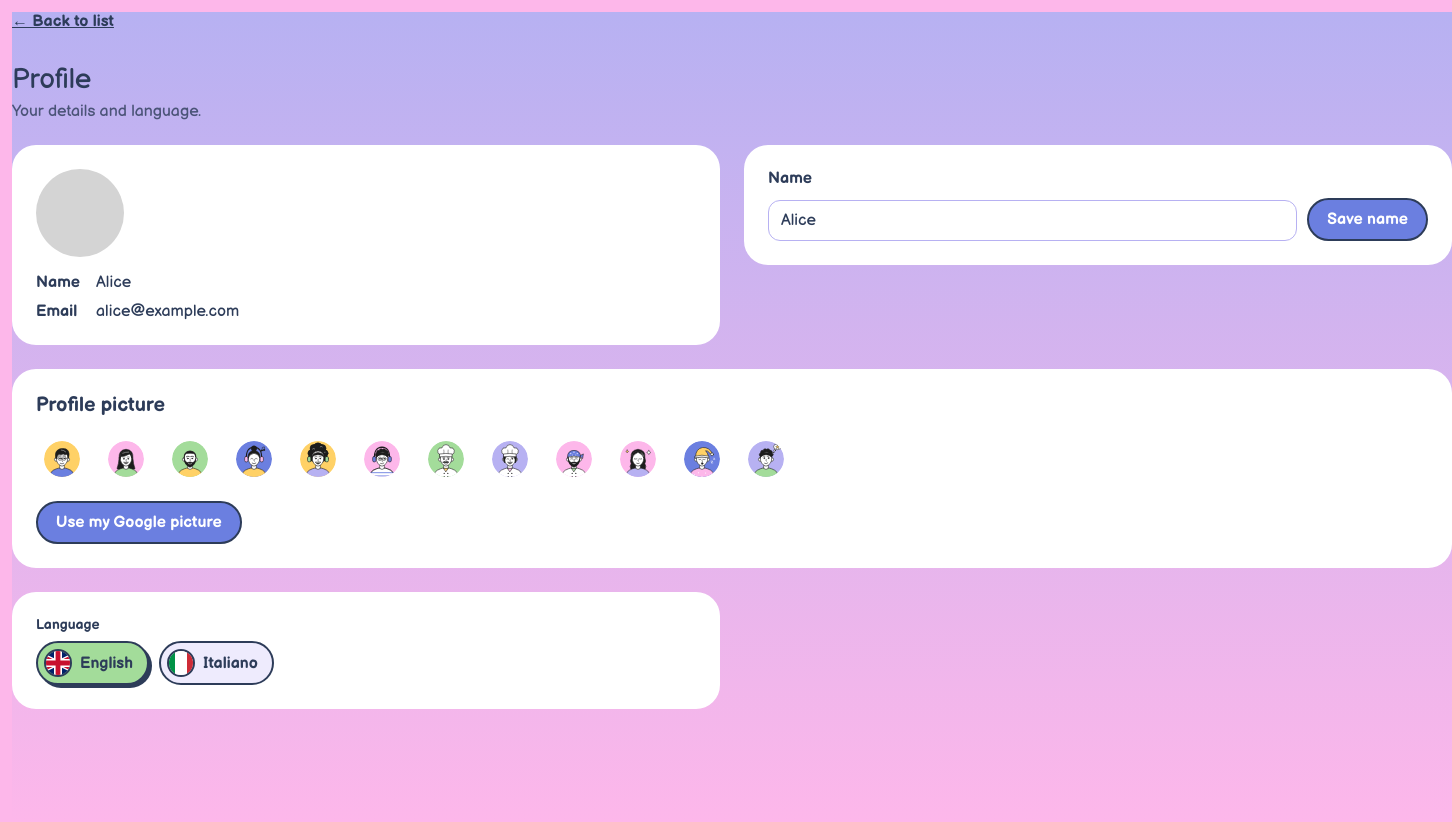
Test: ProfileScreen › saves a new name to the account and to the household
This screenshot has width=1452, height=822.
Replace the text in the field labelled "Name" with "Bob": point(1033, 220) [768,200,1297,241]
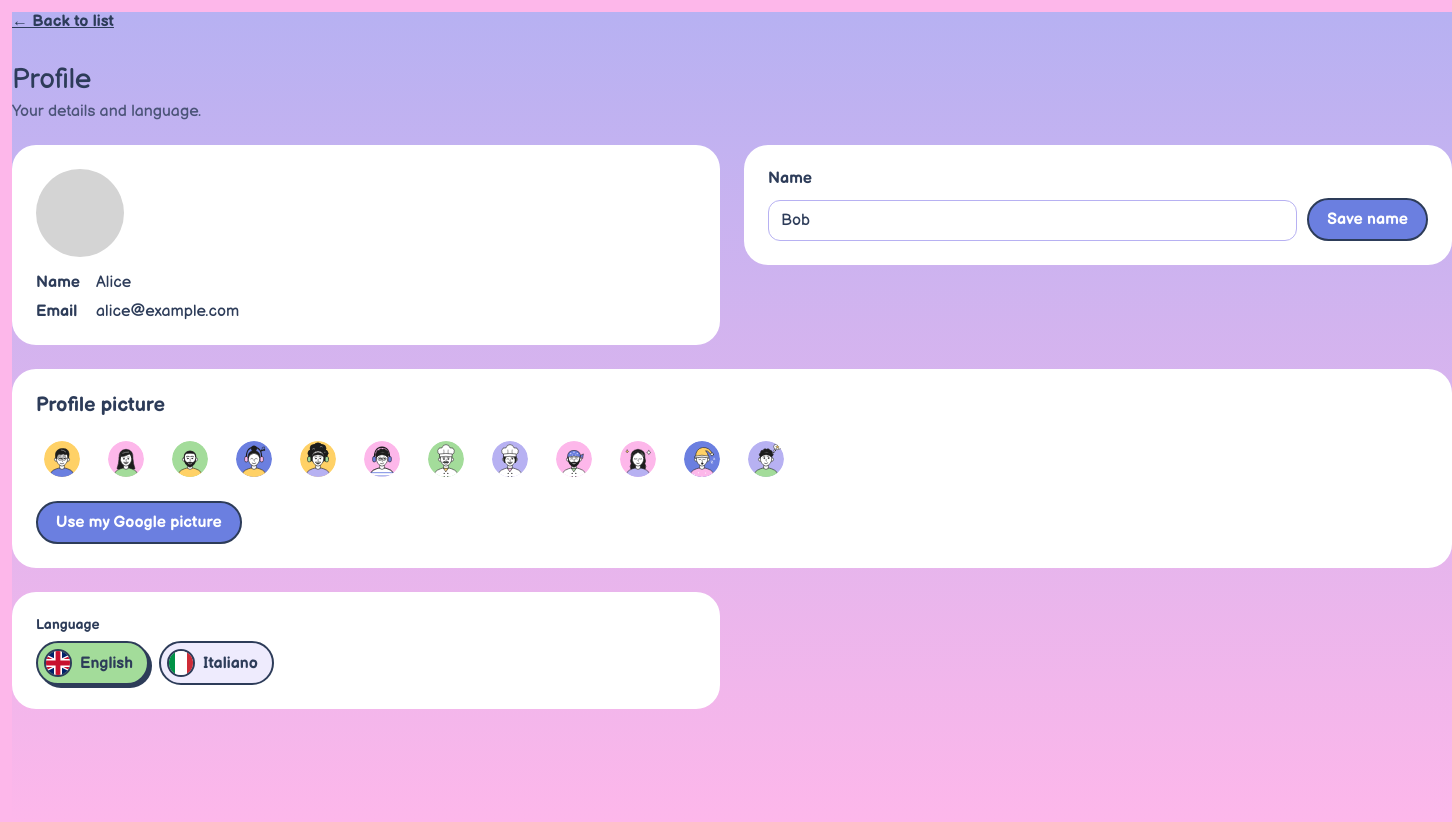
Click the button "Save name": point(1368, 220) [1307,198,1428,241]
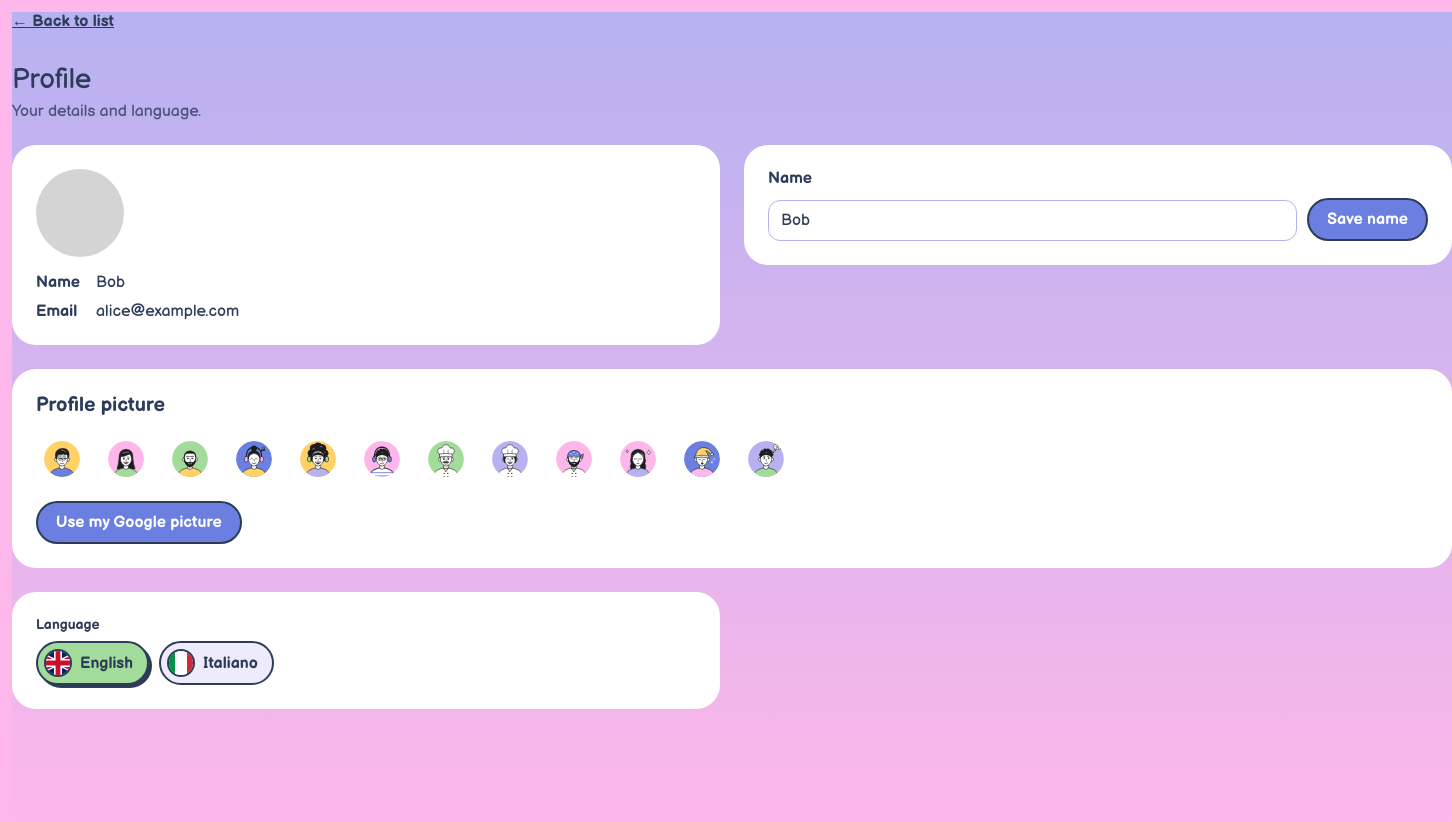
expect the text "Bob" is shown: met, box [96,273,125,292]
